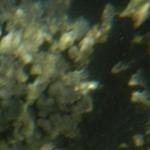dead: (1, 19, 147, 146)
